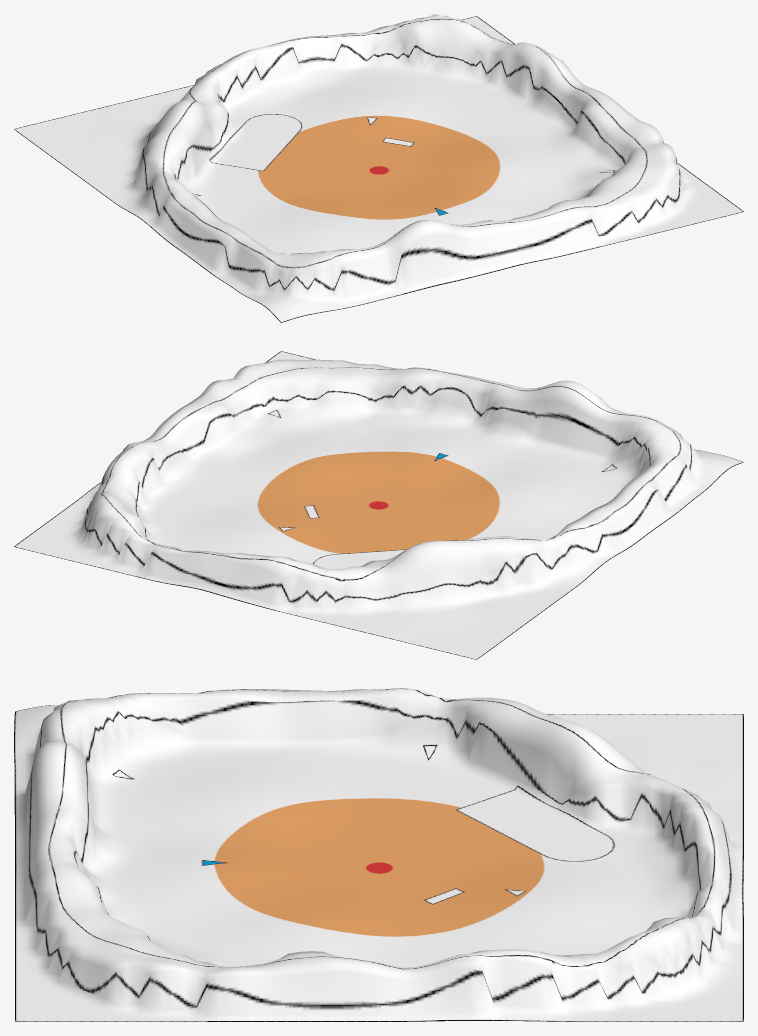
File: Campfire.fbx
The picture shows the model from 3 angles, top to bottom: view 1: azimuth 30°, elevation 25°; view 2: azimuth 150°, elevation 25°; view 3: azimuth 270°, elevation 25°; orthographic projection. The views are drawn at different scales.
Parts seen in each view (by area): view 1: Plane; view 2: Plane; view 3: Plane.
Part boxes in pixels (<box>): Plane: <box>14,14,743,322</box>; Plane: <box>14,351,743,659</box>; Plane: <box>14,688,743,1021</box>.
Size of the model in its own units: 49.93 by 5.49 by 49.99.
